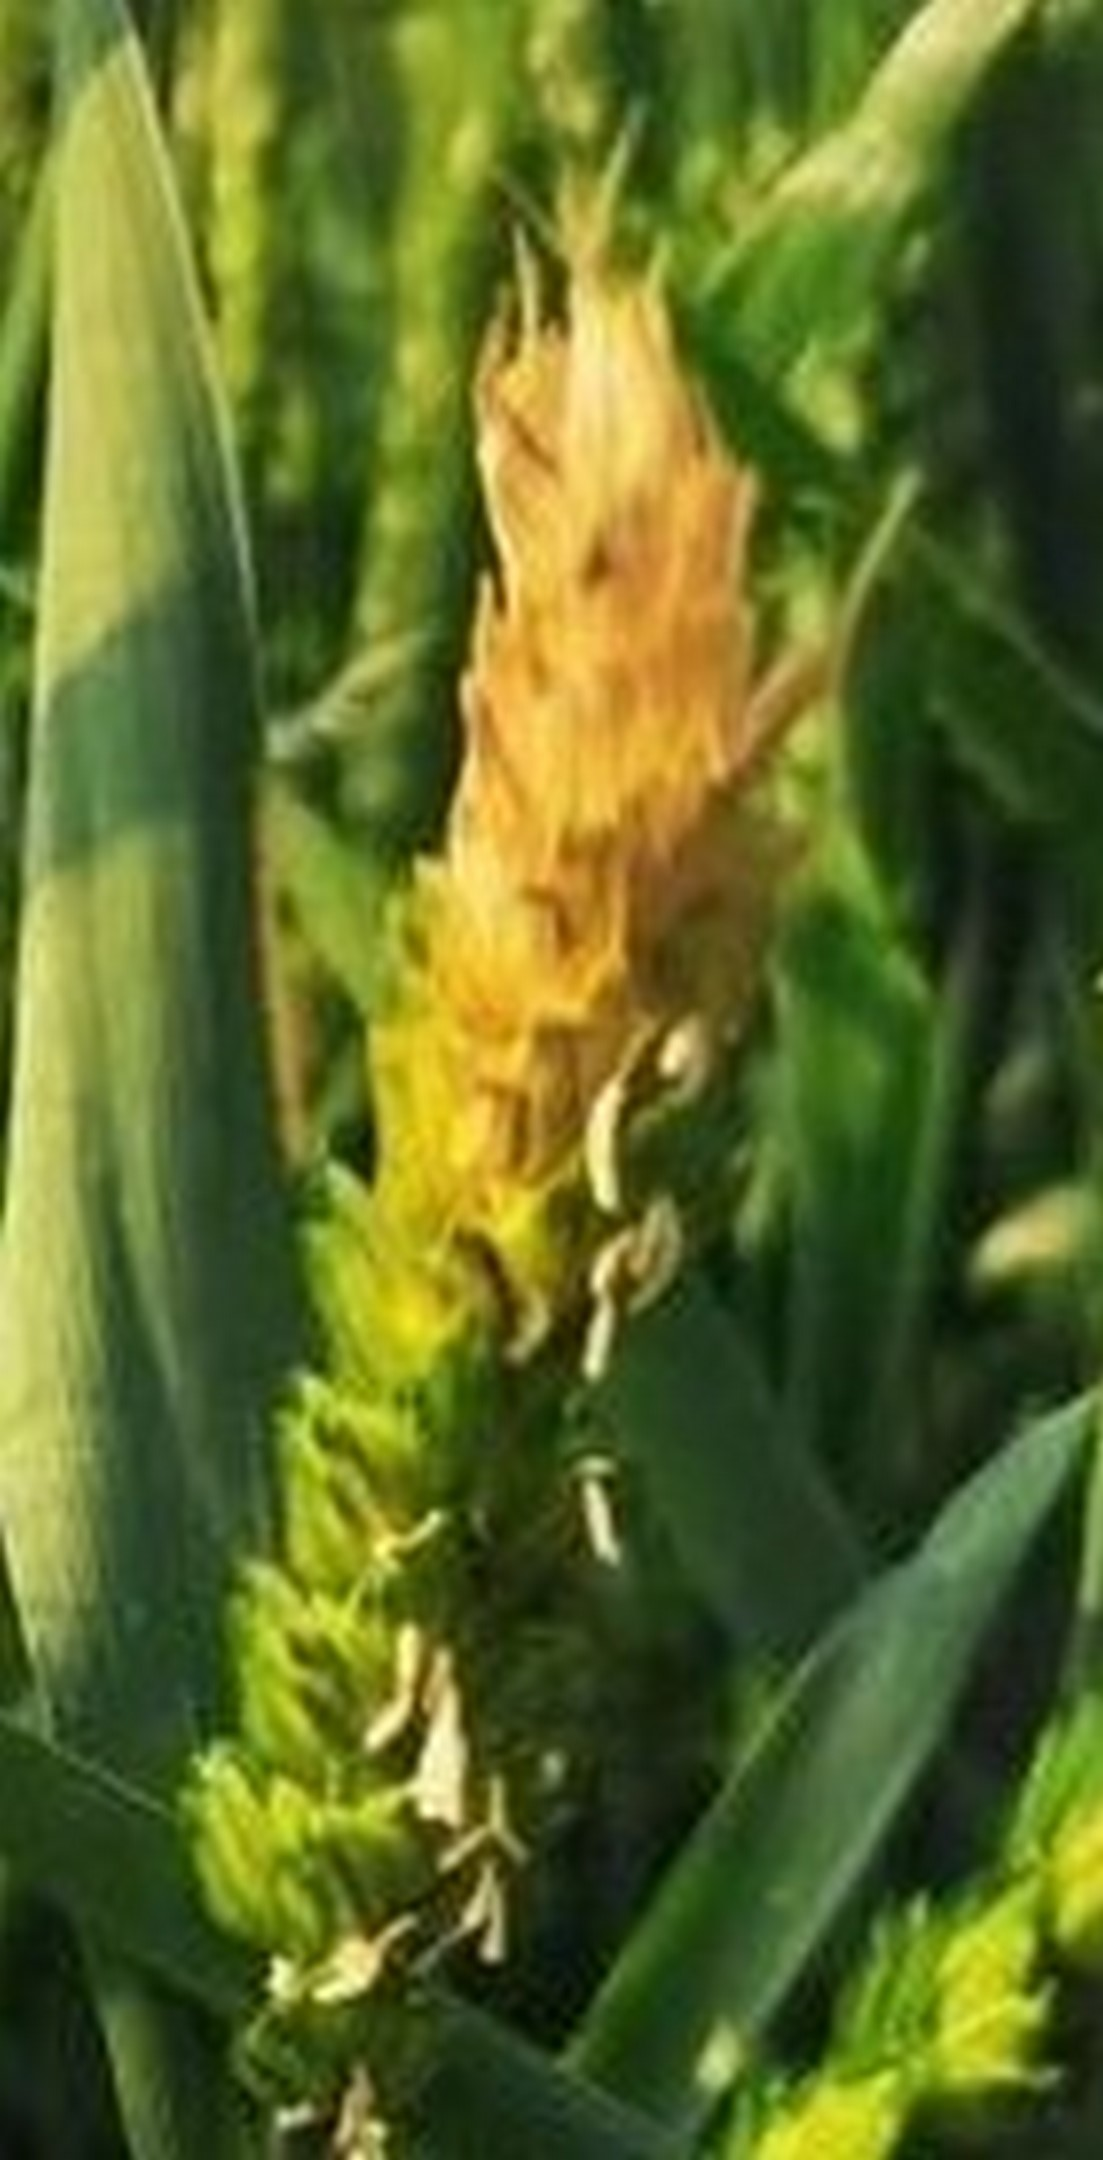Wheat scab: (198, 284, 839, 2080)
